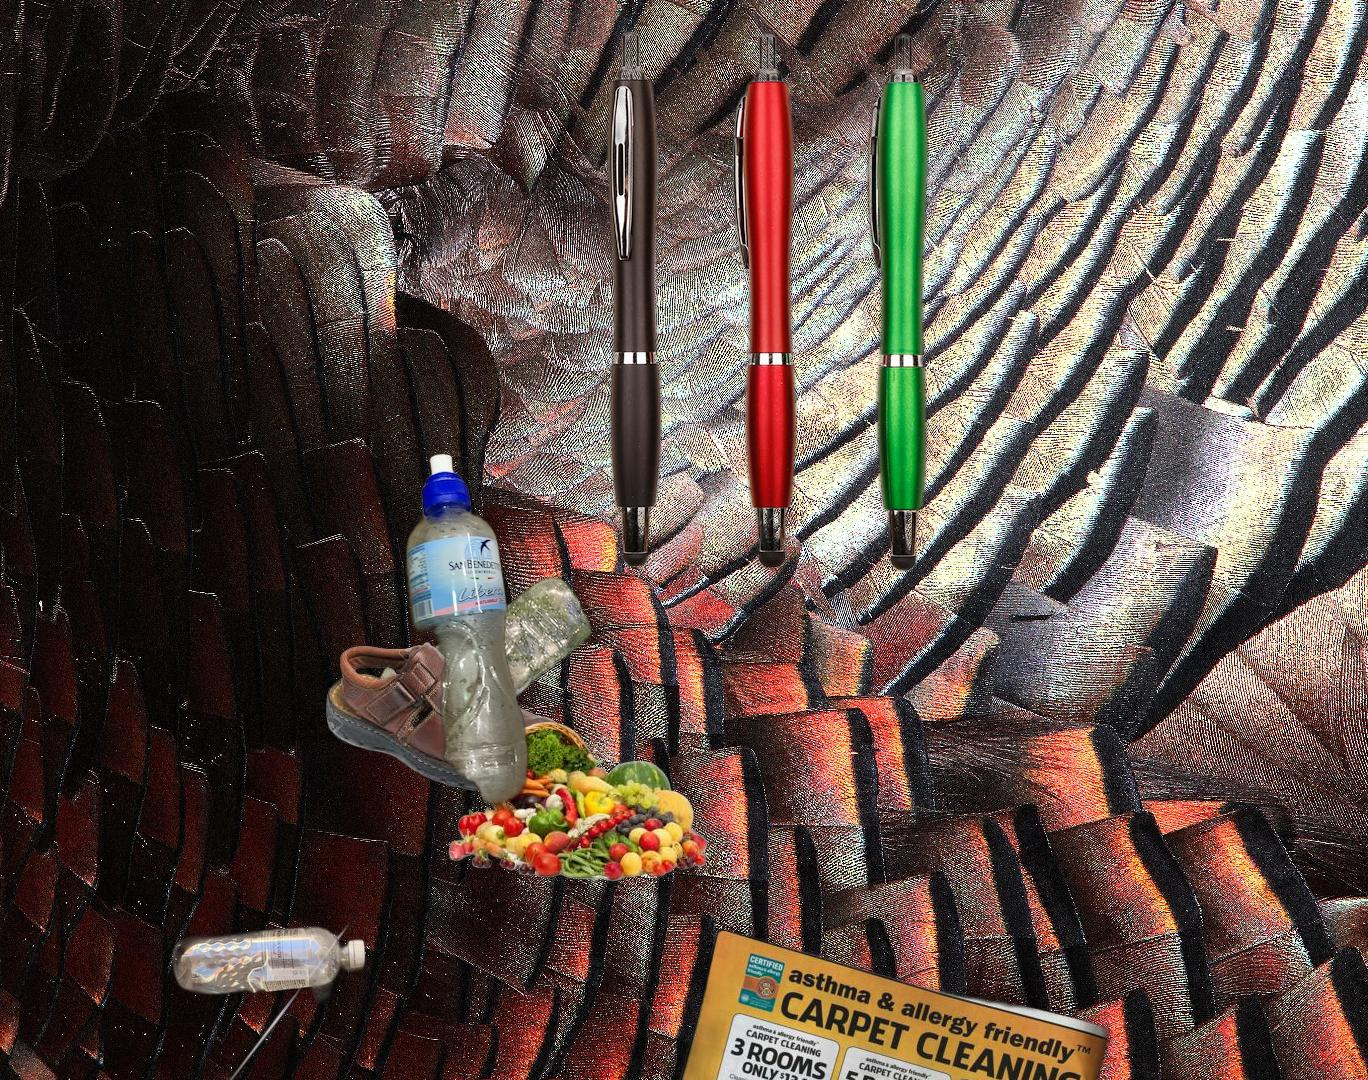biological: (443, 719, 712, 887), (394, 1074, 656, 1080)
paper: (655, 914, 1116, 1080)
penholder: (602, 24, 935, 578)
plastic-bottles: (122, 692, 526, 1080), (292, 448, 628, 834), (345, 572, 597, 1078)
shoes: (323, 639, 571, 795)
